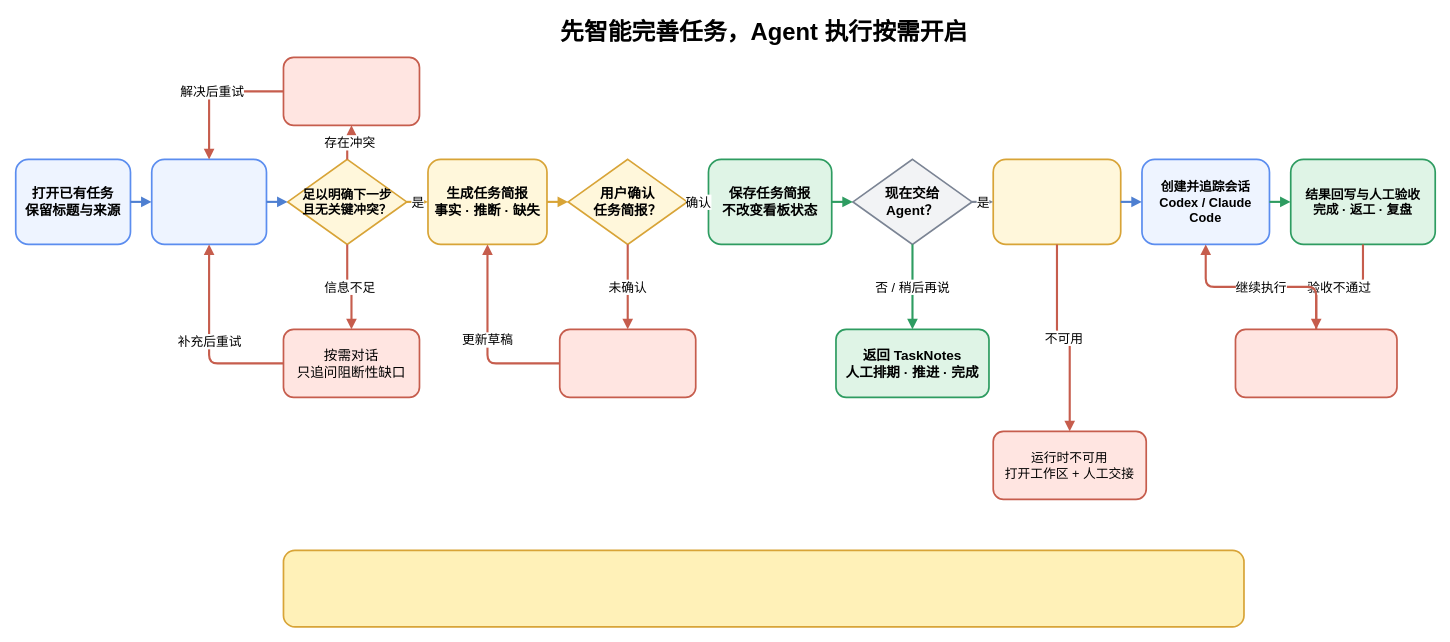
Some shapes in this 1450 by 642 pixel diagram are drawn without their labels. Here are the shapes that lost their labels. From the top down, the centre of each, then its label:
At point (351, 91): "人工解决冲突 选择可信来源".
At point (208, 201): "装配授权上下文 展示来源清单".
At point (1056, 201): "选择 Agent / 工作区 确认执行包与权限".
At point (627, 363): "编辑或重新生成 暂不保存".
At point (1315, 363): "验收不通过 继续原会话并保留历史".
At point (763, 588): "主链路完成条件：任务简报已保存。Agent 是可选分支，不是任务澄清的准入门槛；上下文始终可见、可排除、可追溯。".
